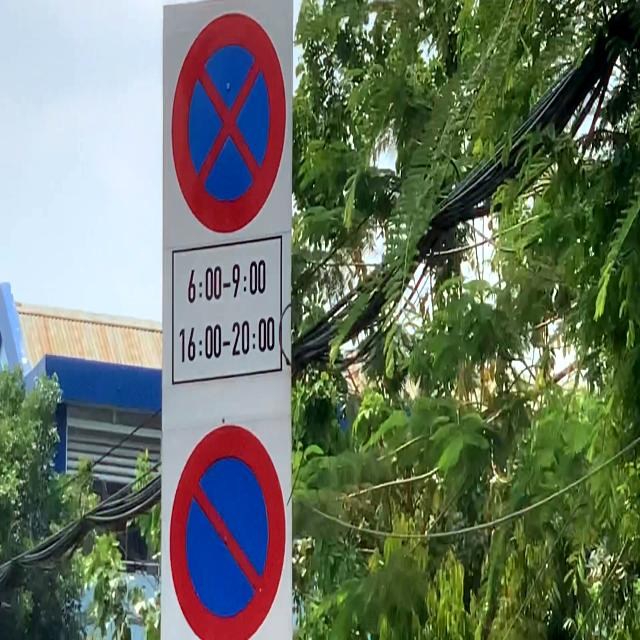P.130: (166, 6, 288, 229)
